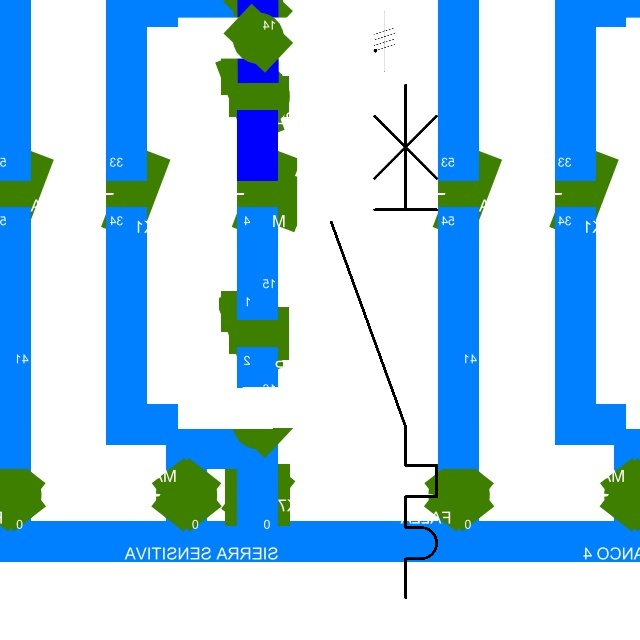interruptor_termomagnetico: (318, 71, 450, 610)
